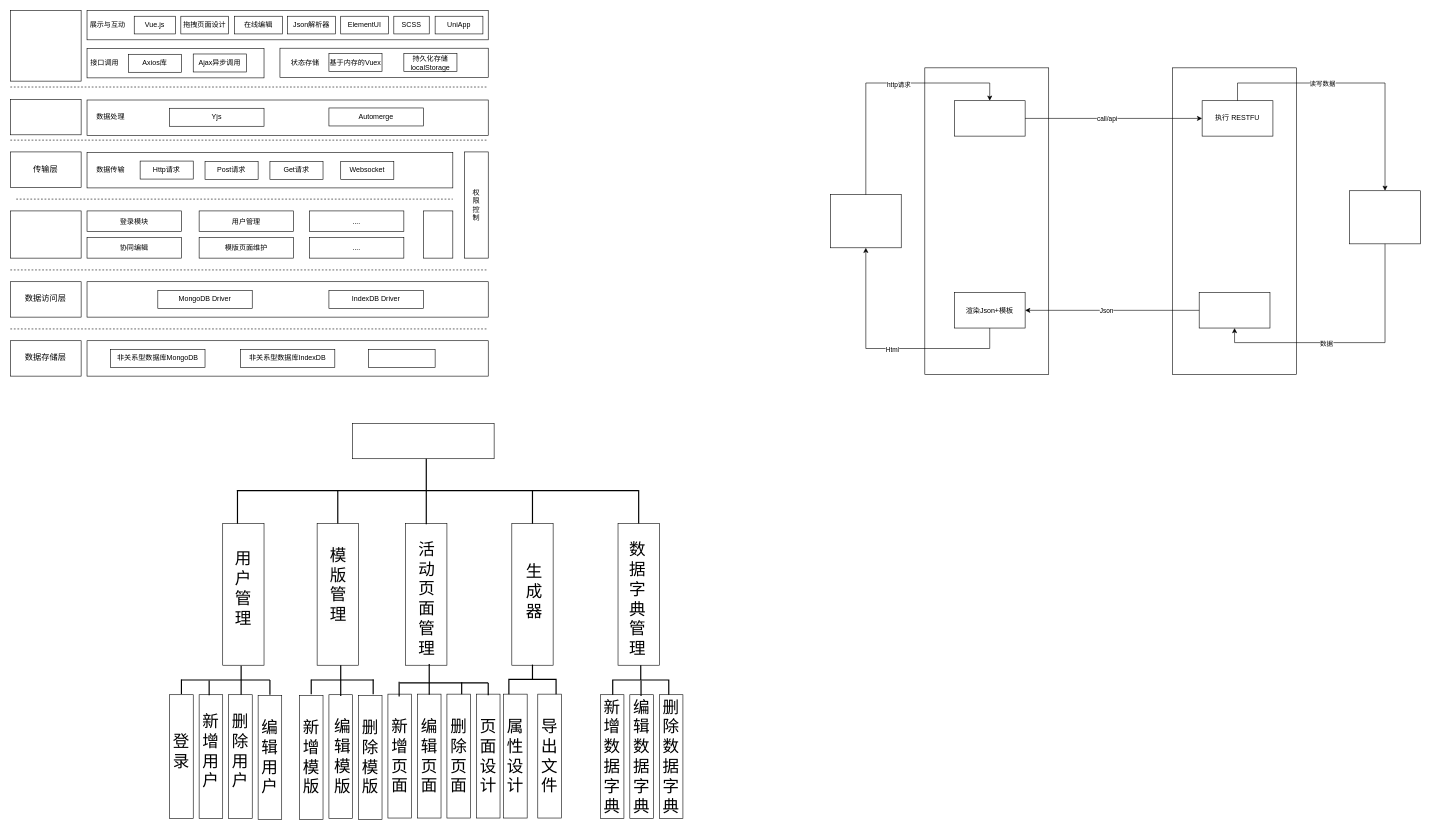
Some shapes in this 1431 by 835 pixel diagram are drawn without their labels. Here are the shapes that lost their labels. From the top down, the box of each, then its label:
(10, 10, 81, 81): 视图展示层
(10, 99, 81, 135): 数据模型层
(954, 100, 1025, 136): 1.解析Http请求 2.请求应用服务器 RESTFUL方法
(10, 210, 81, 258): 业务逻辑层
(423, 210, 453, 258): 系统监控
(830, 194, 901, 248): 客户端
(924, 67, 1049, 375): web服务器
(1172, 67, 1297, 375): 应用服务器
(1349, 190, 1420, 244): MongoDB
(1199, 292, 1270, 328): 对数据进行逻辑处理
(368, 349, 435, 367): 对象存储
(352, 423, 494, 459): 活动页面搭建平台
